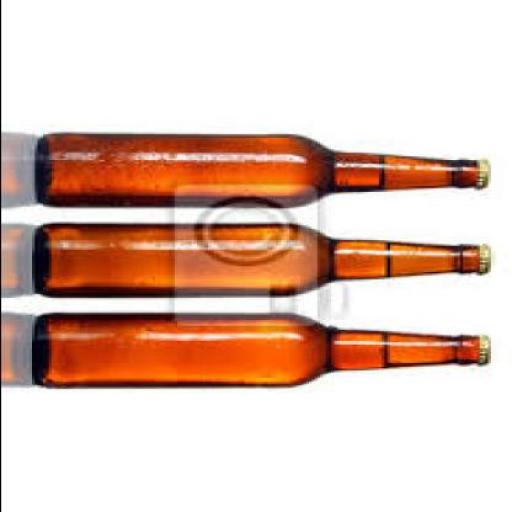glass: (40, 134, 482, 211), (33, 226, 481, 300), (36, 316, 478, 389)
metal: (478, 246, 496, 278), (476, 164, 495, 192), (480, 338, 496, 367)
